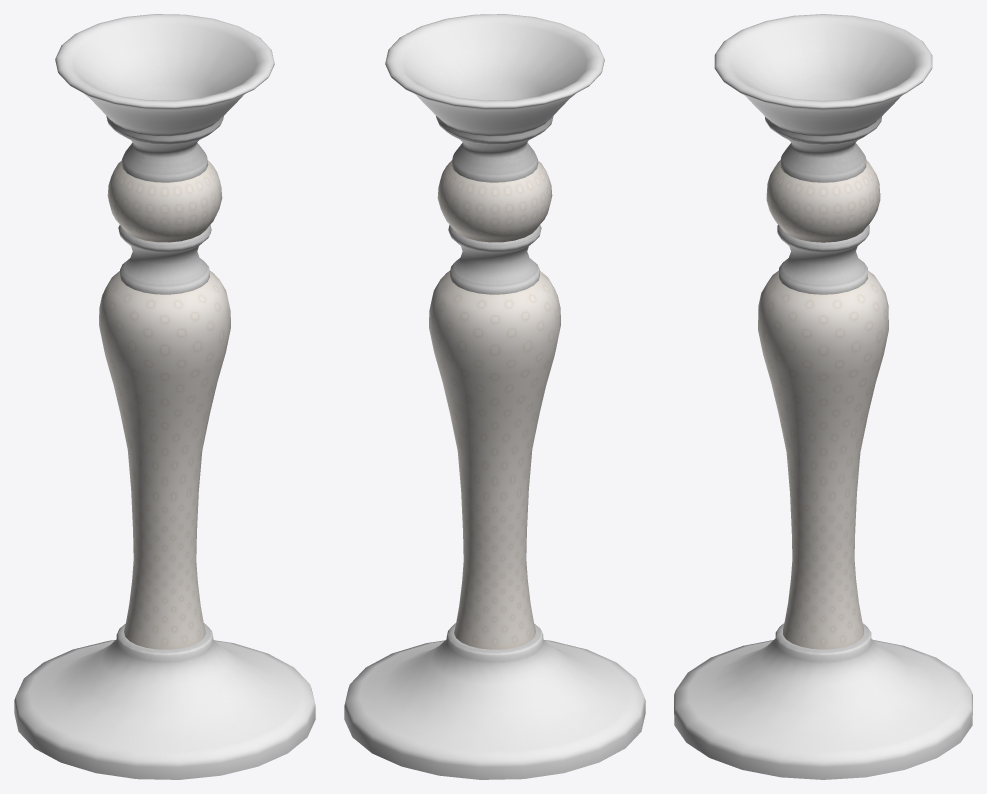
The model's file is DecorStandPot02.FBX.
3 renders of one model, left to right at view 1: azimuth 30°, elevation 25°; view 2: azimuth 150°, elevation 25°; view 3: azimuth 270°, elevation 25°, orthographic.
Visible parts, largest first — view 1: DecorStandPot02; view 2: DecorStandPot02; view 3: DecorStandPot02.
Boxes of the visible parts, x1,y1,x2,y2 form: DecorStandPot02: [14, 14, 315, 779]; DecorStandPot02: [344, 14, 645, 779]; DecorStandPot02: [674, 14, 972, 779].
Size of what is drawn, in the model's own units: 0.4216 by 1.01 by 0.4173.
